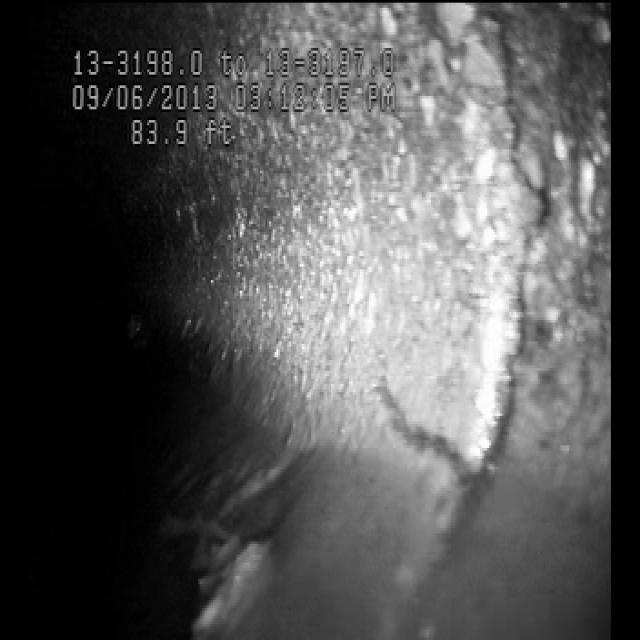Crack: (347, 302, 533, 578)
